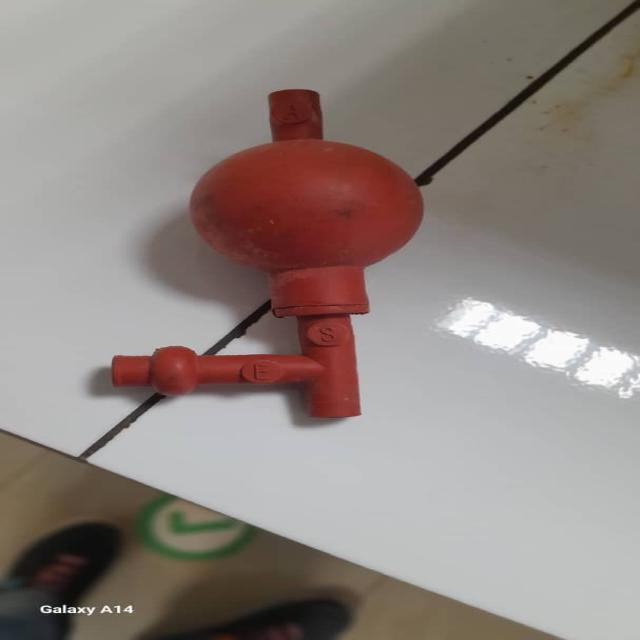Droppers: (100, 83, 484, 425)
